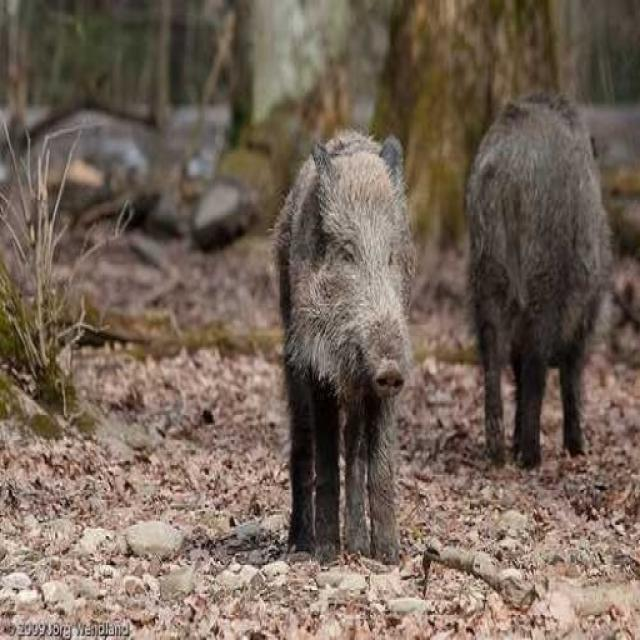pig: (232, 124, 478, 574)
